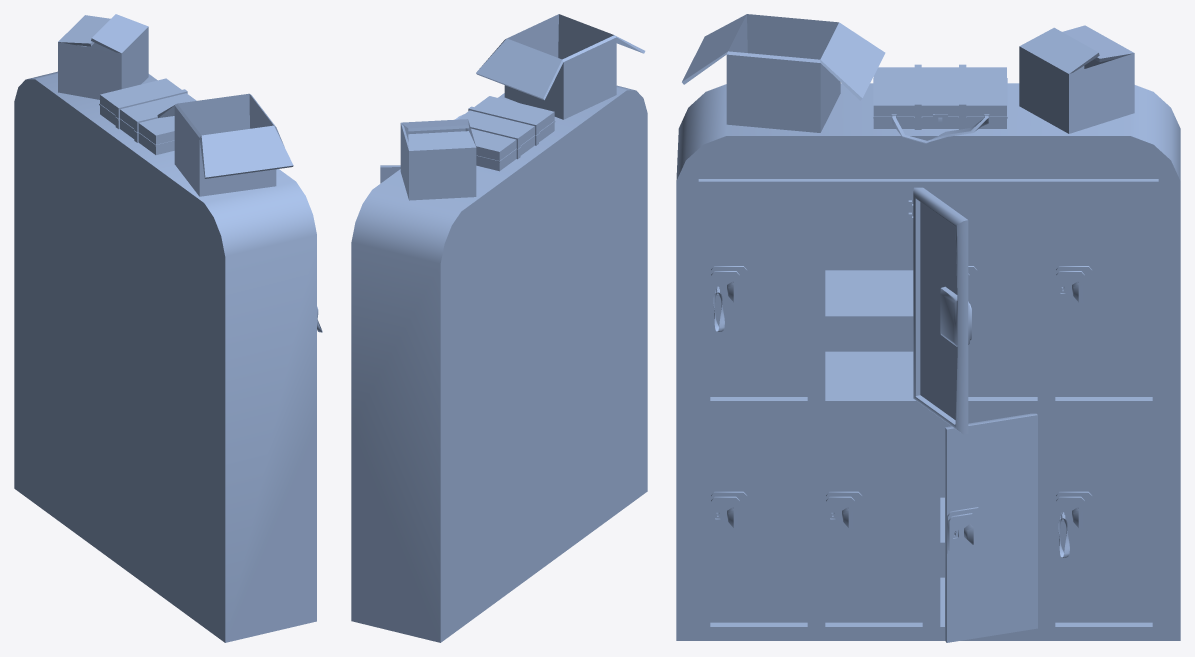
Rendered from m_coverLocker.fbx.
3 renders of one model, left to right at view 1: azimuth 30°, elevation 25°; view 2: azimuth 150°, elevation 25°; view 3: azimuth 270°, elevation 25°, orthographic. The views are drawn at different scales.
Visible parts, largest first — view 1: m_coverLocker; view 2: m_coverLocker; view 3: m_coverLocker.
Boxes of the visible parts, <box> form: m_coverLocker: <box>14,14,322,642</box>; m_coverLocker: <box>351,14,647,642</box>; m_coverLocker: <box>676,14,1180,642</box>.
Size of the model in its own units: 93.11 by 267 by 211.
